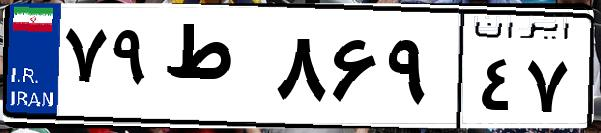4: (475, 38, 525, 113)
6: (330, 28, 385, 110)
7: (57, 26, 110, 100), (525, 38, 570, 115)
8: (270, 28, 330, 110)
9: (385, 28, 445, 110), (110, 28, 158, 98)
ط: (158, 20, 270, 120)
